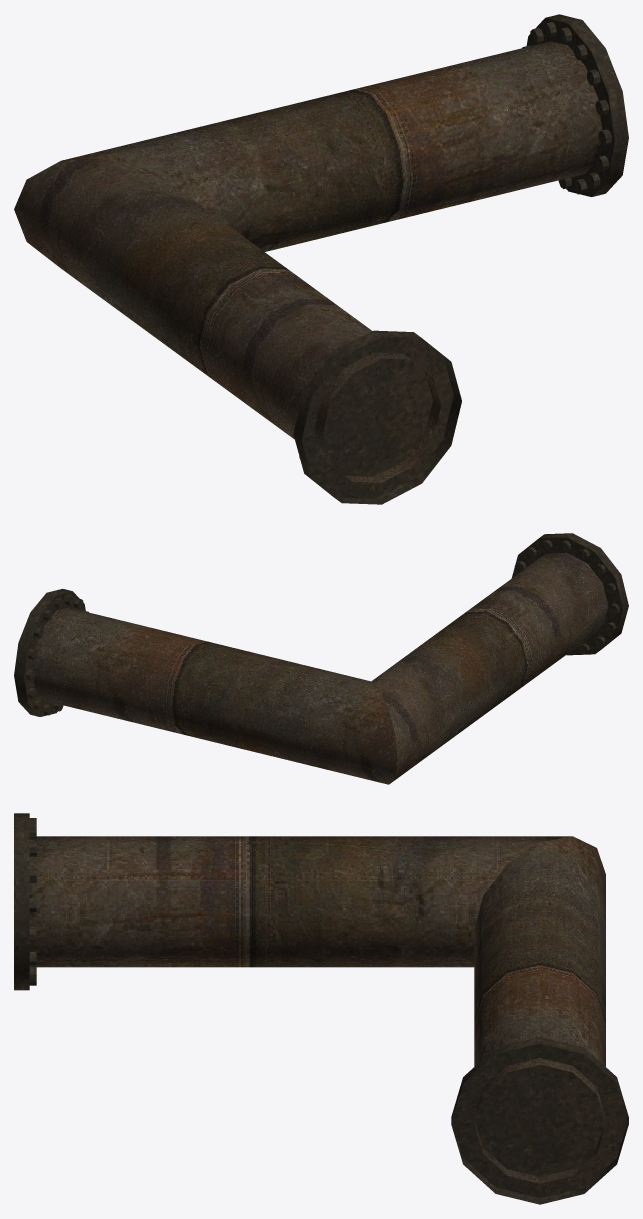
File: pipe_bx_3.glb
The picture shows the model from 3 angles, top to bottom: view 1: azimuth 30°, elevation 25°; view 2: azimuth 150°, elevation 25°; view 3: azimuth 270°, elevation 25°; orthographic projection. The views are drawn at different scales.
Visible parts, largest first — view 1: pipe_bx_3; view 2: pipe_bx_3; view 3: pipe_bx_3.
Part boxes in pixels (x1=…): pipe_bx_3: x1=14, y1=14, x2=628, y2=504; pipe_bx_3: x1=14, y1=533, x2=628, y2=784; pipe_bx_3: x1=14, y1=813, x2=628, y2=1204.
Bounding box in the file's own units: 2.34 × 0.676 × 2.34.
2 materials, 2 textured.
